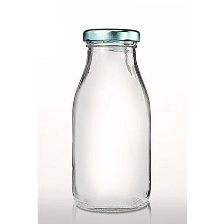bottle: (70, 20, 157, 214)
